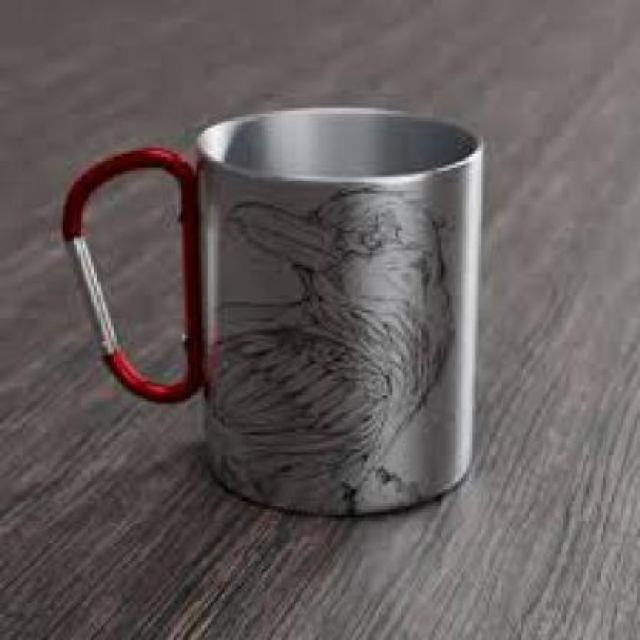cup: (46, 94, 507, 532)
